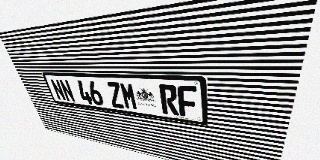4: (75, 80, 93, 105)
6: (86, 81, 104, 106)
F: (177, 85, 198, 118)
M: (119, 82, 139, 110)
N: (58, 79, 76, 102), (50, 79, 67, 101)
R: (159, 84, 179, 116)
Z: (106, 82, 125, 109)
